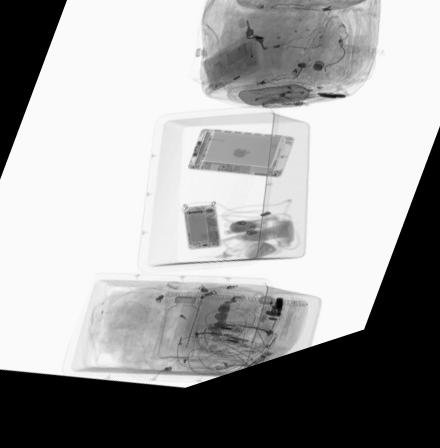Lighter: (245, 57, 256, 75)
